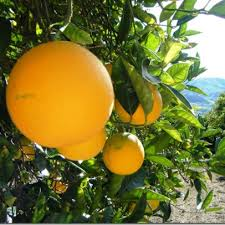orange: (6, 42, 116, 142), (113, 75, 164, 129), (105, 131, 145, 174)
